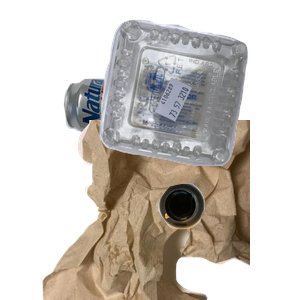glass: (156, 181, 300, 300)
metal: (61, 75, 231, 202)
plastic: (97, 17, 300, 176)
trash: (40, 120, 280, 300)
